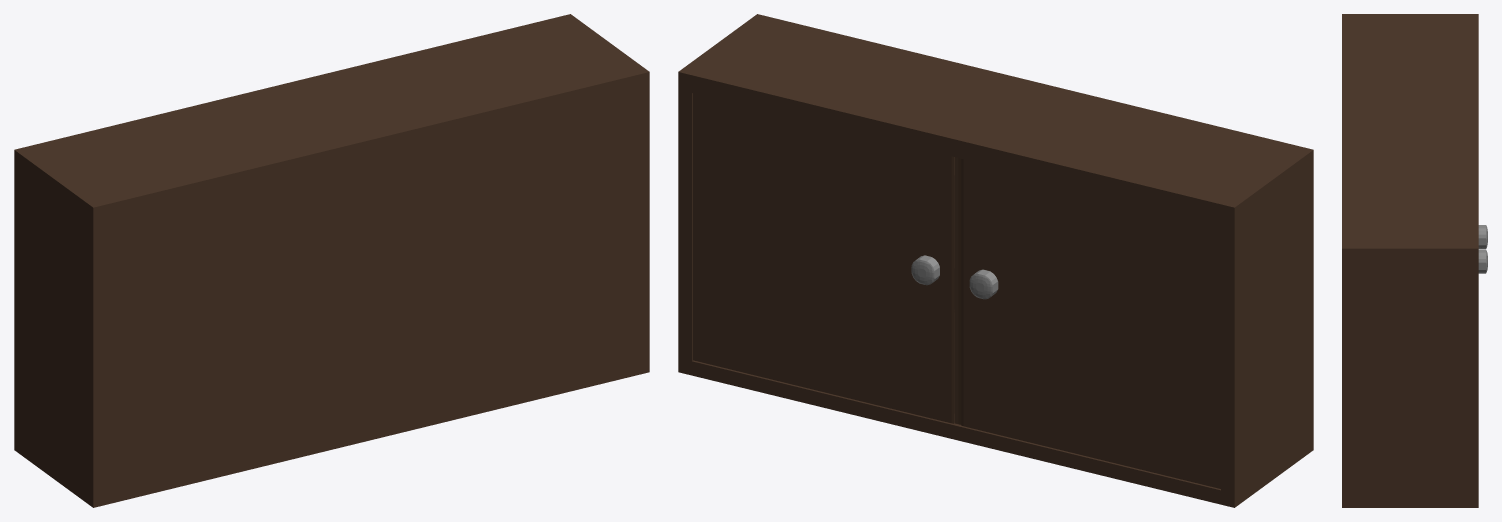
The model's file is Cupboard.fbx.
3 views of the same model, side by side, from view 1: azimuth 30°, elevation 25°; view 2: azimuth 150°, elevation 25°; view 3: azimuth 270°, elevation 25° (orthographic). The views are drawn at different scales.
Parts seen in each view (by area): view 1: Cube; view 2: Cube; view 3: Cube.
Boxes of the visible parts, left/top/right/bottom form: Cube: left=14, top=14, right=649, bottom=507; Cube: left=678, top=14, right=1313, bottom=507; Cube: left=1342, top=14, right=1487, bottom=507.
Bounding box in the file's own units: 451 × 232 × 118.
